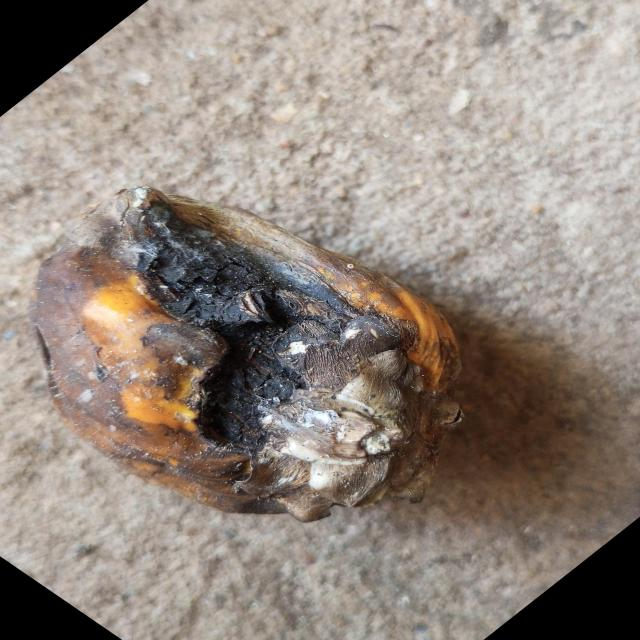damaged: (31, 188, 474, 526)
